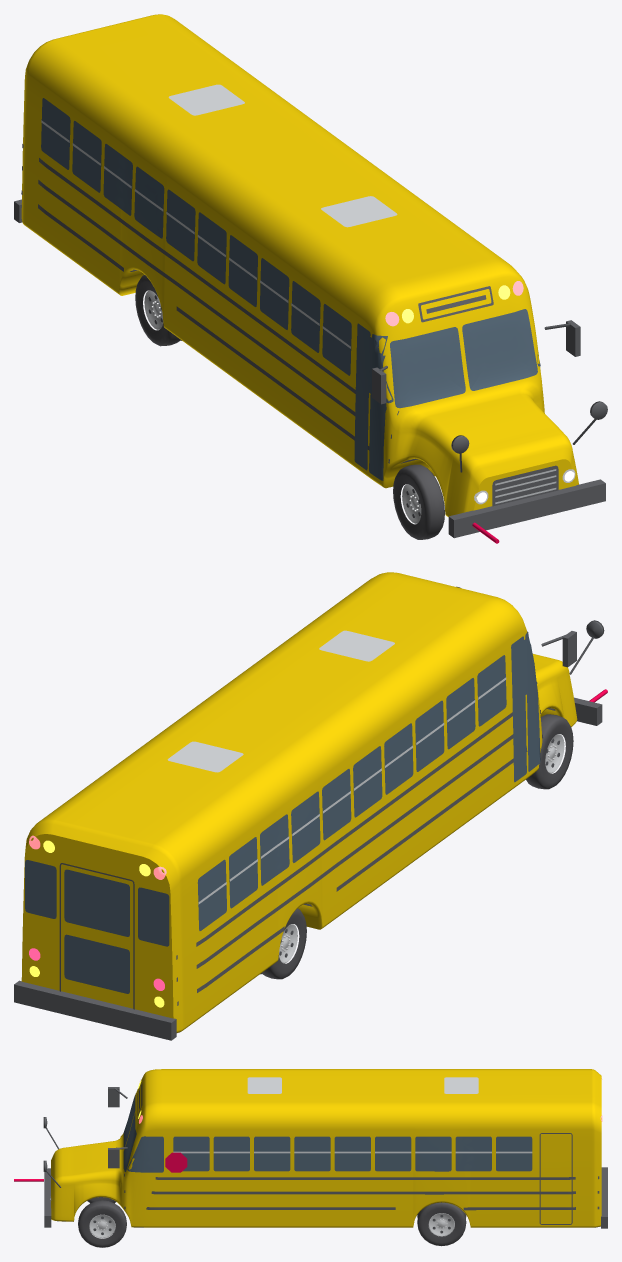
The model's file is bus-school.glb.
3 renders of one model, top to bottom at view 1: azimuth 30°, elevation 25°; view 2: azimuth 150°, elevation 25°; view 3: azimuth 270°, elevation 25°, orthographic. The views are drawn at different scales.
Visible parts, largest first — view 1: bus-school; view 2: bus-school; view 3: bus-school.
Boxes of the visible parts, <box> form: bus-school: <box>14,14,607,543</box>; bus-school: <box>14,572,607,1040</box>; bus-school: <box>14,1069,607,1247</box>.
Bounding box in the file's own units: 3.02 × 3.14 × 12.08.
